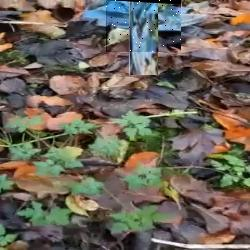restaffald: (106, 0, 181, 52)
